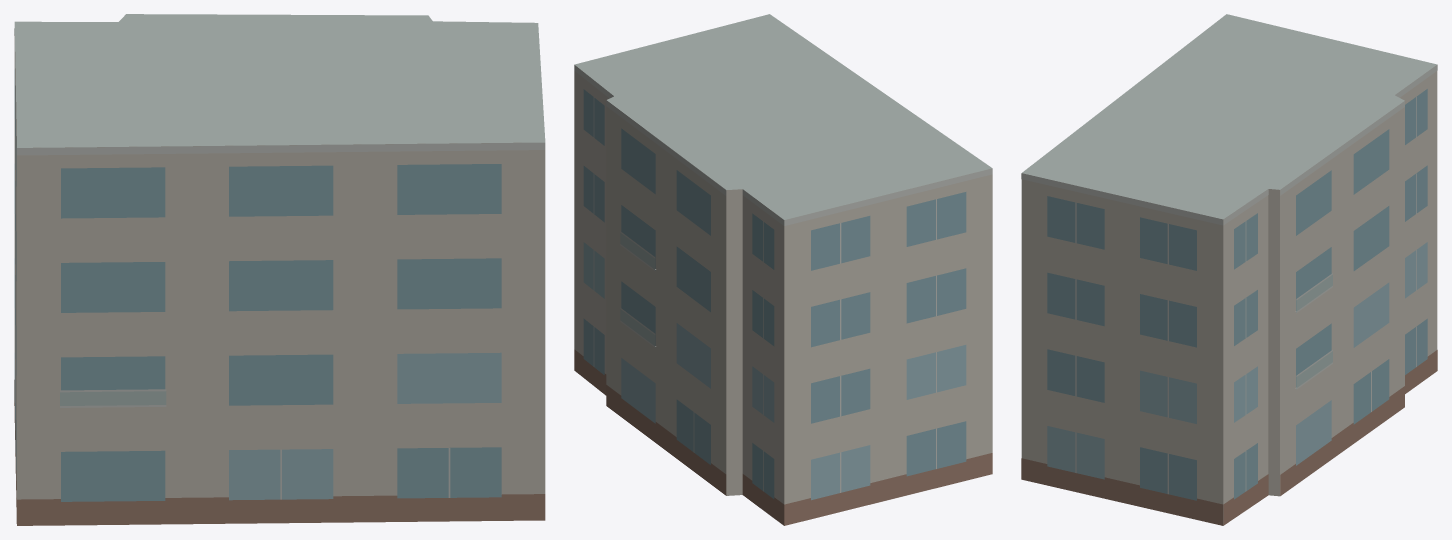
Rendered from survey-upis-32996232.glb.
The picture shows the model from 3 angles, left to right: view 1: azimuth 30°, elevation 25°; view 2: azimuth 150°, elevation 25°; view 3: azimuth 270°, elevation 25°; orthographic projection. The views are drawn at different scales.
Parts seen in each view (by area): view 1: survey-upis-32996232.tmp; view 2: survey-upis-32996232.tmp; view 3: survey-upis-32996232.tmp.
Boxes of the visible parts, x1,y1,x2,y2 form: survey-upis-32996232.tmp: (14, 14, 545, 525); survey-upis-32996232.tmp: (574, 14, 992, 525); survey-upis-32996232.tmp: (1021, 14, 1437, 525).
Bounding box in the file's own units: 17.62 × 12.25 × 15.08.
